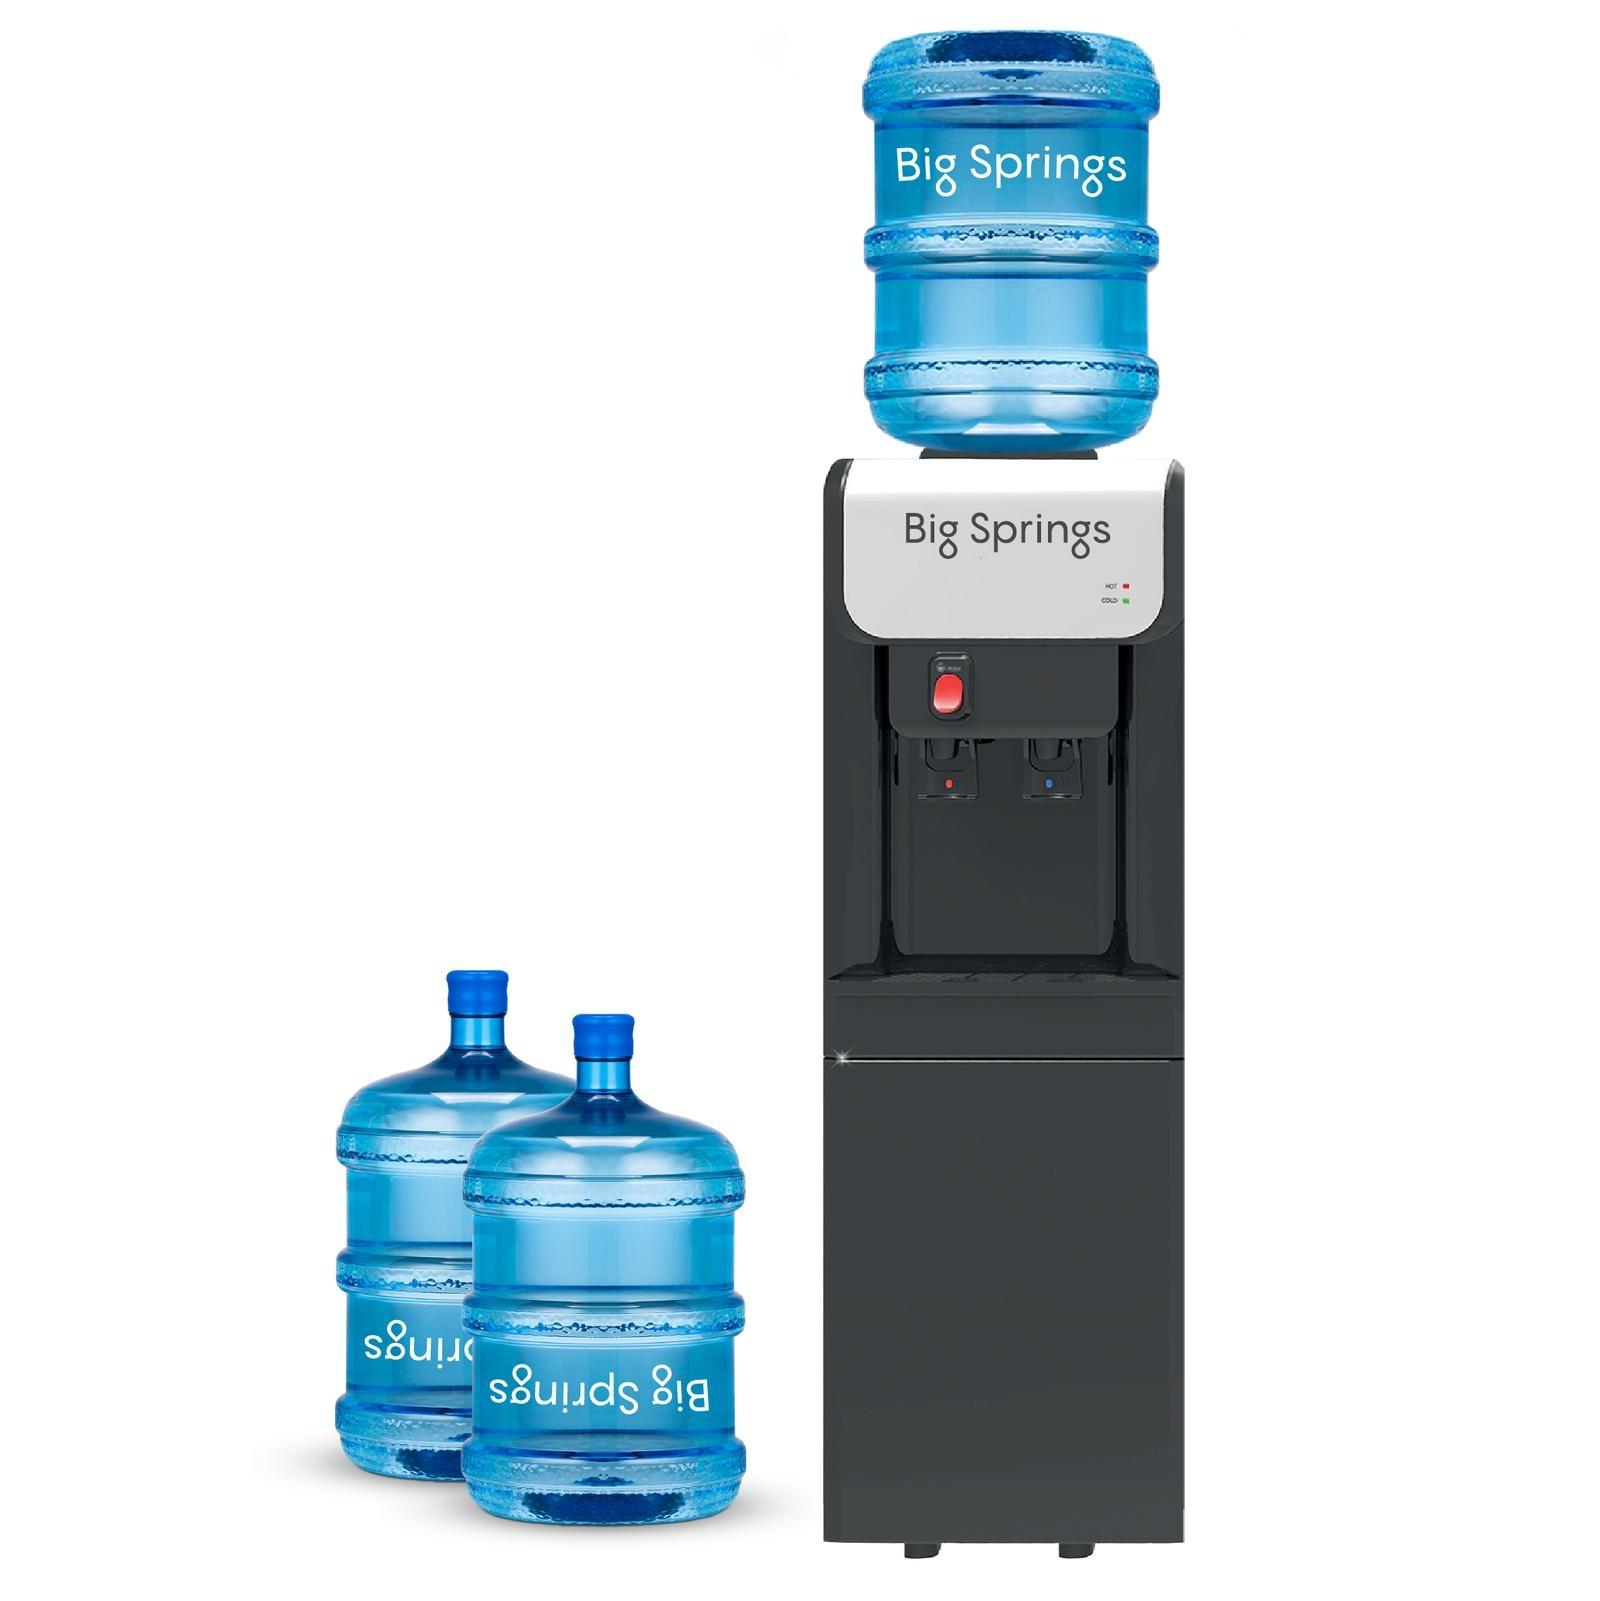Dispenser: (825, 34, 1185, 1544)
